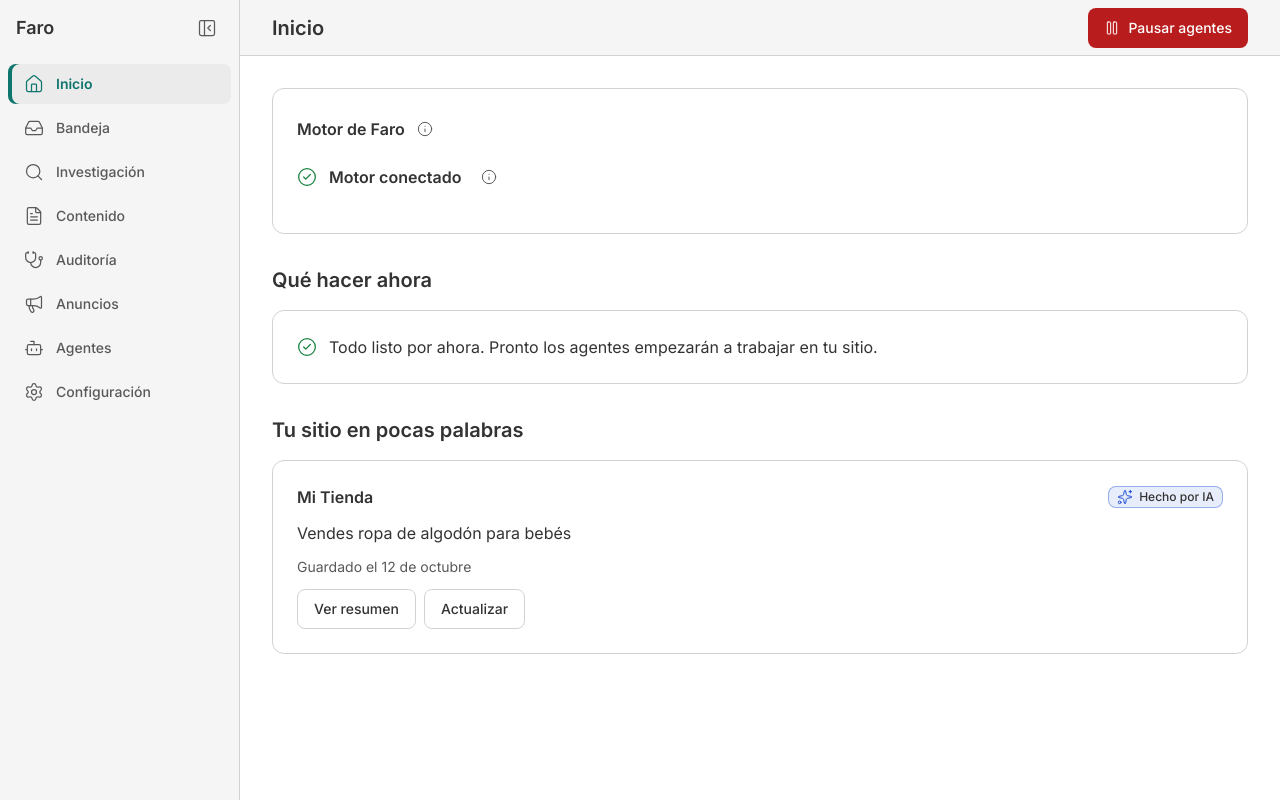
Test: Inicio con agentes (spec F1b §3.8) › con resumen guardado: todo listo y la tarjeta 'Tu sitio en pocas palabras'
Expected: the text "Todo listo por ahora. Pronto los agentes empezarán a trabajar en tu sitio." is shown, 272,310 -> 1248,384
Expected: the text "Hecho por IA" is shown, 1108,486 -> 1223,508
Click the button with aria-label "Ver resumen de Mi Tienda": {"x": 356, "y": 609} 297,589 -> 416,629
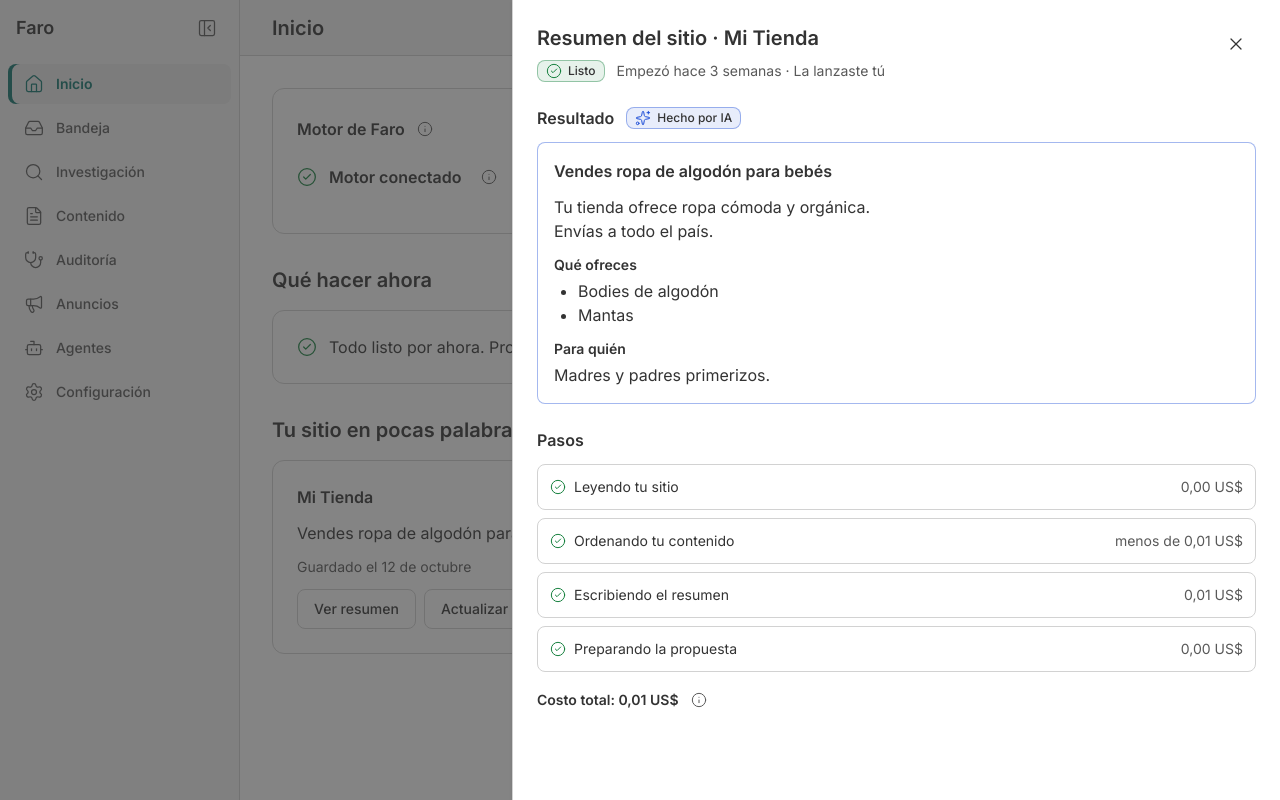
Expected: the dialog "Resumen del sitio · Mi Tienda" is shown, 512,0 -> 1279,799
Press Escape
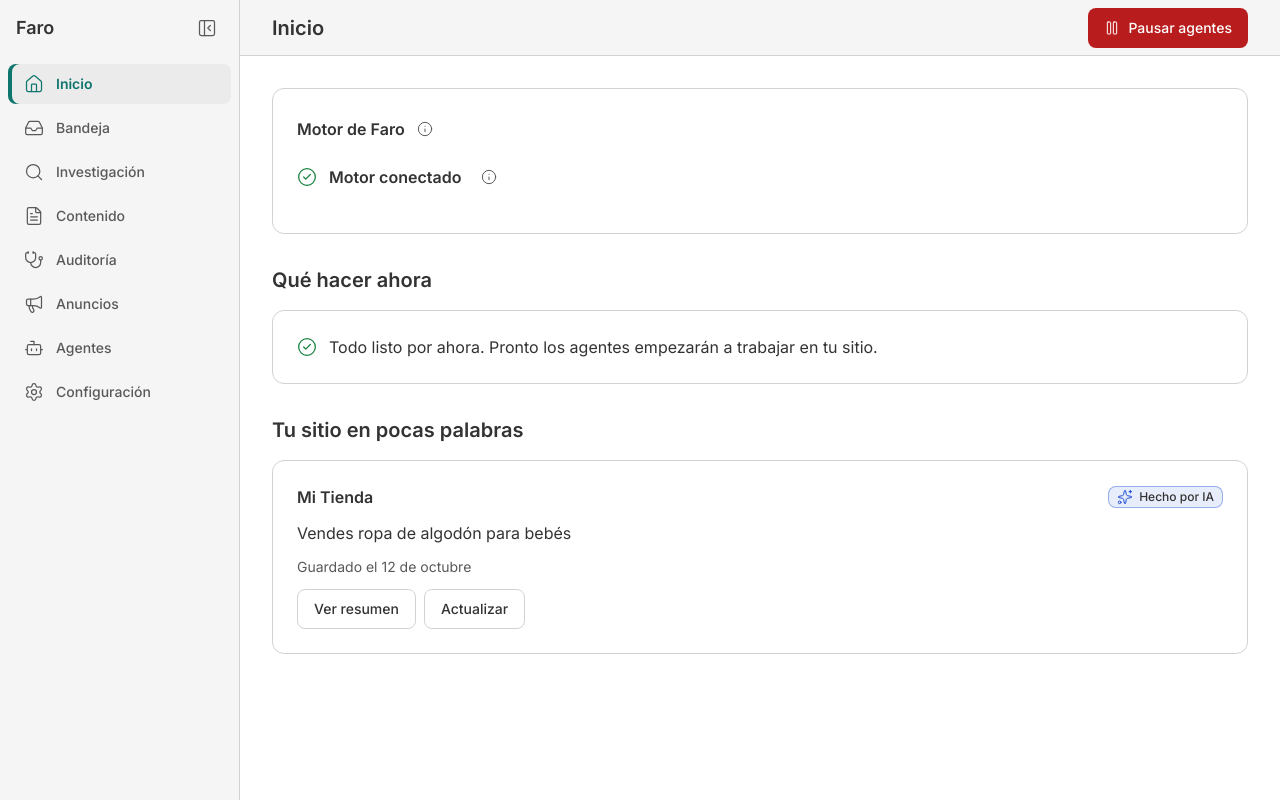
Click the button with aria-label "Actualizar el resumen de Mi Tienda": {"x": 475, "y": 609} 424,589 -> 525,629
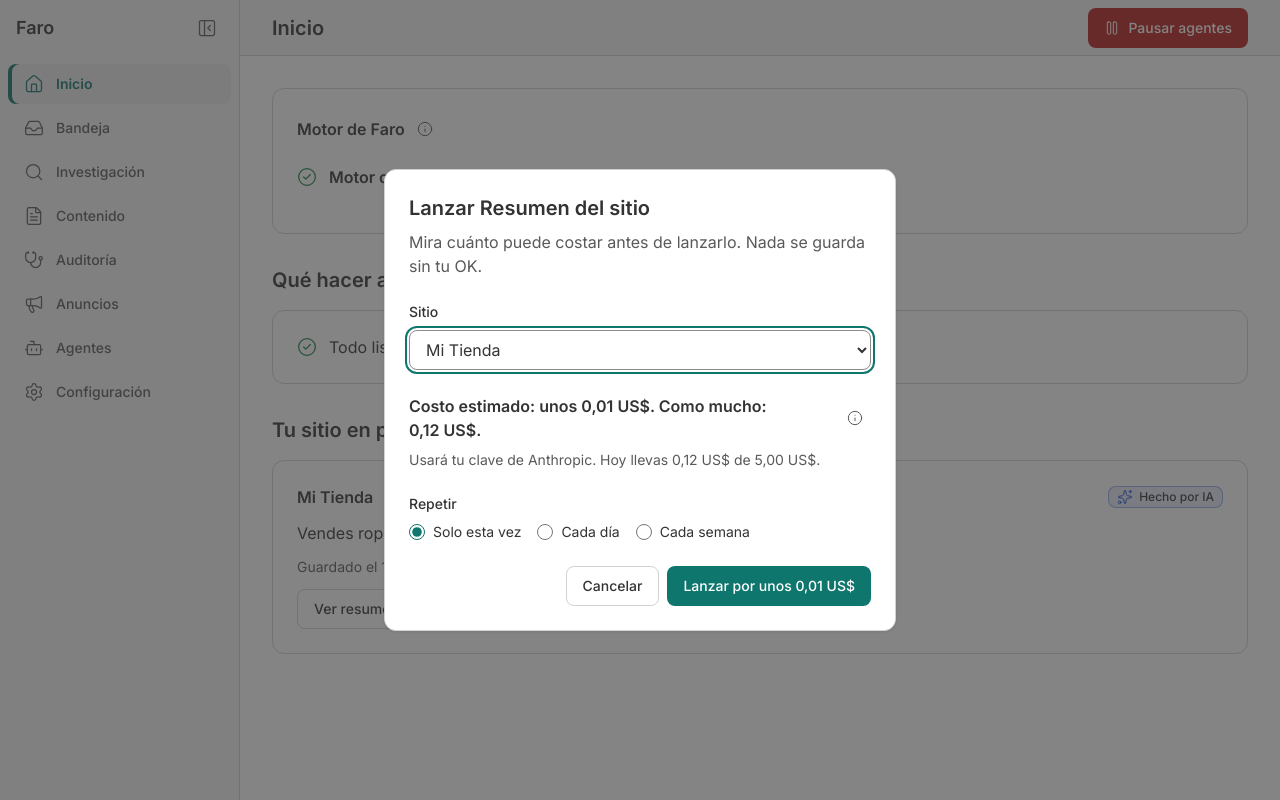
Expected: the dropdown labelled "Sitio" shows "Mi Tienda", 409,330 -> 871,370
